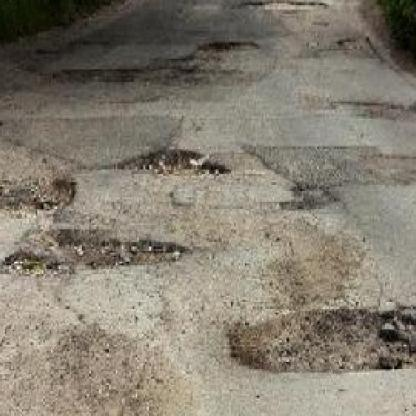pothole: (222, 301, 416, 378), (0, 223, 192, 281), (116, 147, 229, 177), (0, 174, 76, 217), (277, 181, 339, 217), (196, 37, 260, 54), (240, 0, 328, 11)
